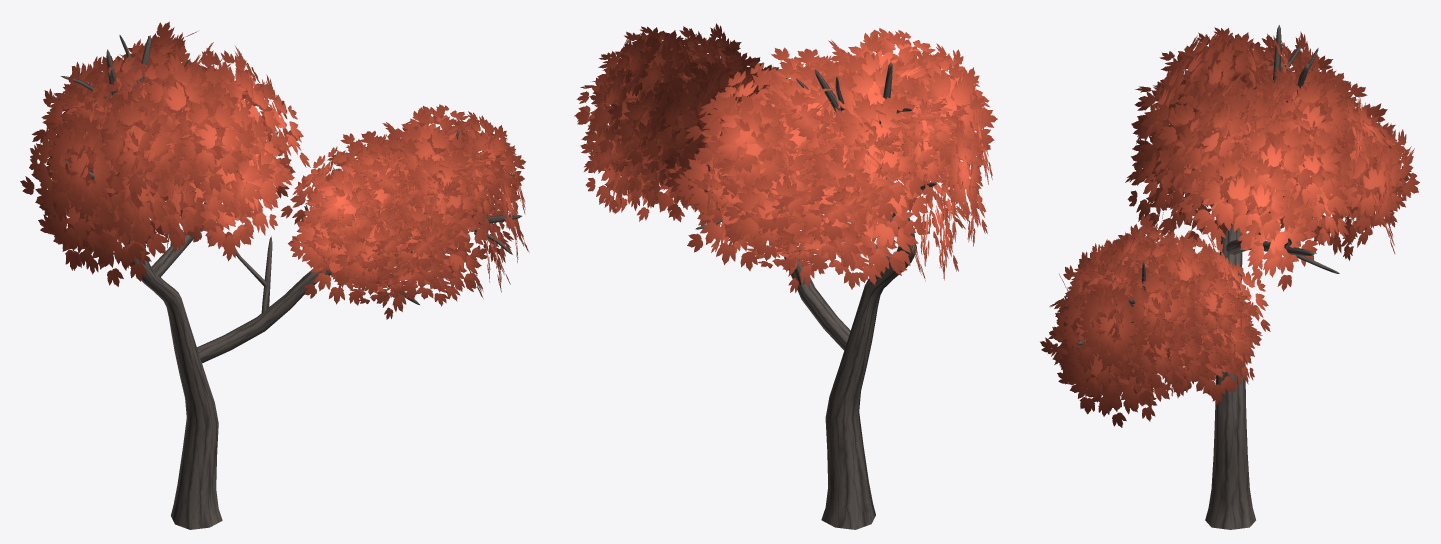
The model's file is MapleTree_1.gltf.
3 views of the same model, side by side, from view 1: azimuth 30°, elevation 25°; view 2: azimuth 150°, elevation 25°; view 3: azimuth 270°, elevation 25° (orthographic). The views are drawn at different scales.
Visible parts, largest first — view 1: MapleTree_1; view 2: MapleTree_1; view 3: MapleTree_1.
Boxes of the visible parts, x1,y1,x2,y2 form: MapleTree_1: [20, 21, 529, 529]; MapleTree_1: [574, 23, 997, 529]; MapleTree_1: [1040, 25, 1419, 529].
Size of the model in its own units: 6.23 by 6.64 by 4.9.
Materials: 2 (2 with a texture image).
